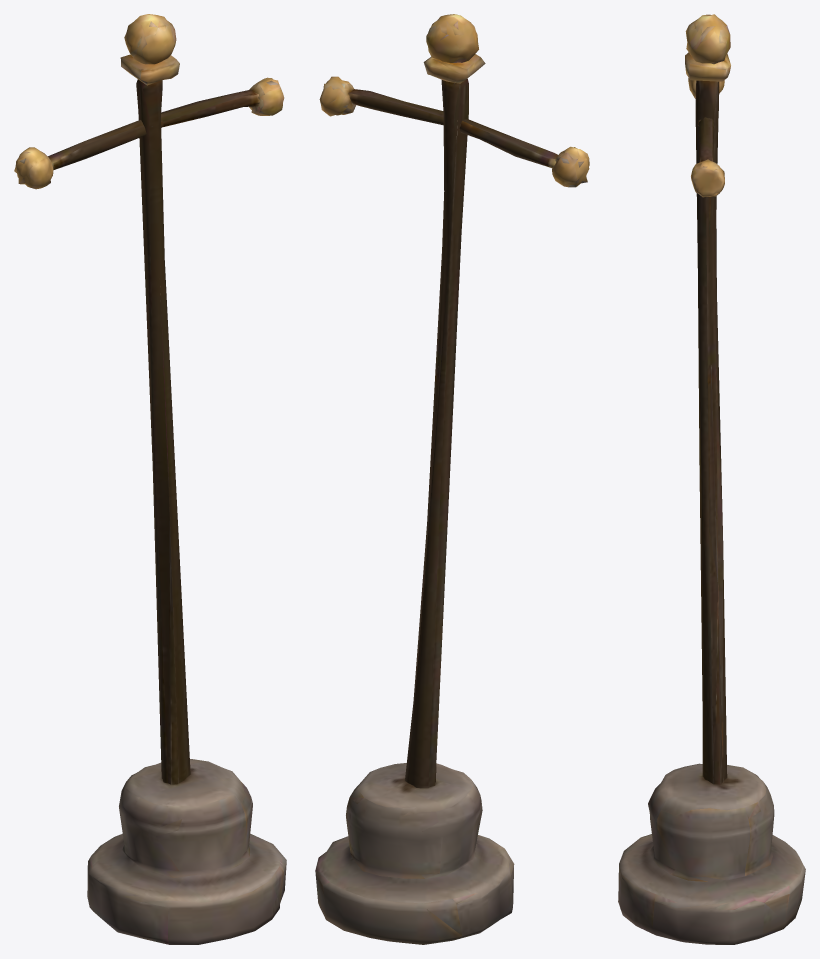
Rendered from sd_estandarte.glb.
3 views of the same model, side by side, from view 1: azimuth 30°, elevation 25°; view 2: azimuth 150°, elevation 25°; view 3: azimuth 270°, elevation 25° (orthographic). The views are drawn at different scales.
Visible parts, largest first — view 1: Mesh_0.009; view 2: Mesh_0.009; view 3: Mesh_0.009.
Part boxes in pixels (x1=…): Mesh_0.009: x1=14, y1=14, x2=286, y2=944; Mesh_0.009: x1=315, y1=14, x2=589, y2=944; Mesh_0.009: x1=618, y1=14, x2=805, y2=944.
Size of the model in its own units: 0.1456 by 0.4815 by 0.0938.
1 material, 1 textured.
